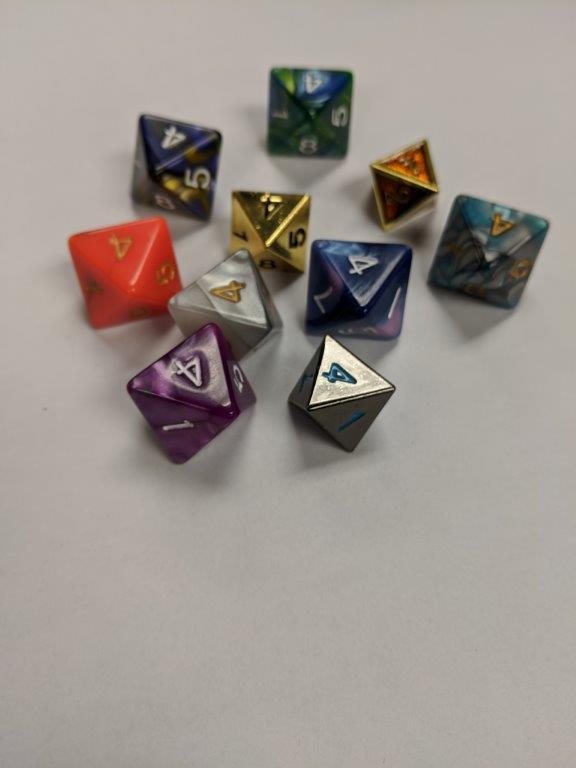d8-4: (124, 321, 256, 466), (423, 196, 552, 310), (283, 339, 398, 454), (170, 249, 279, 367), (67, 218, 176, 328), (307, 240, 411, 342), (128, 112, 224, 220), (269, 64, 350, 159), (230, 190, 309, 275), (369, 131, 438, 228)
